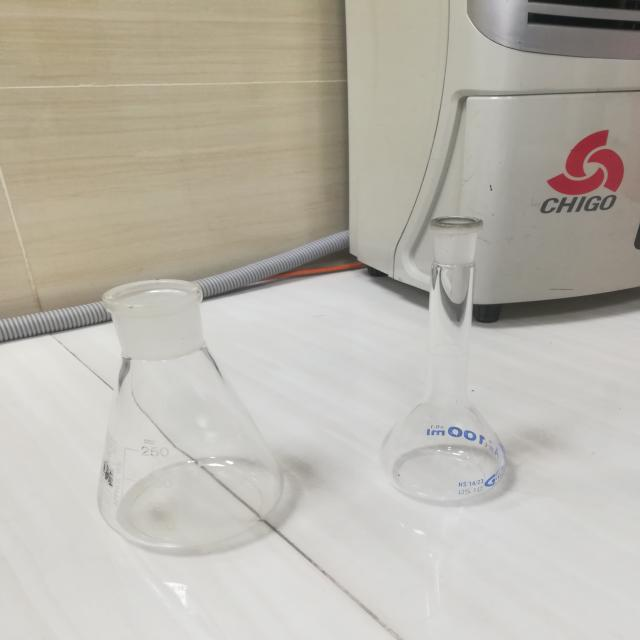Conical_Flask: (78, 257, 304, 565)
Volumetric_Flask: (358, 183, 560, 537)
